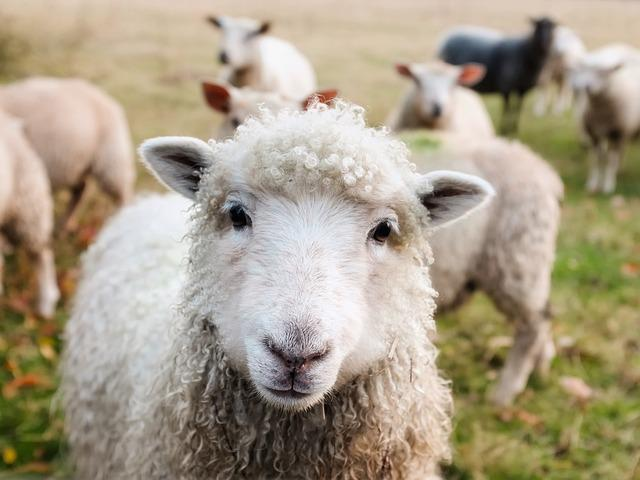Non_Gorille: (33, 2, 640, 480)
